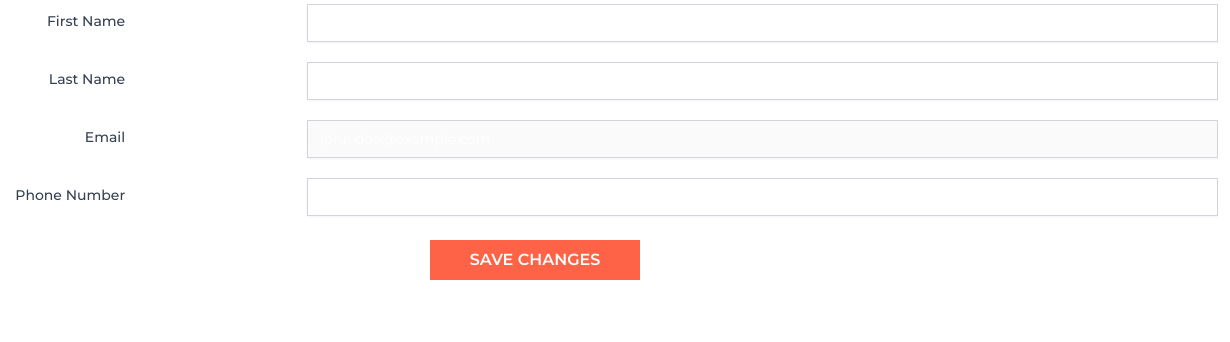
Test: UserDataForm Component › displays error message when updateUser fails
Click the button "Save Changes".
click(535, 260)  # box [430,240,640,280]
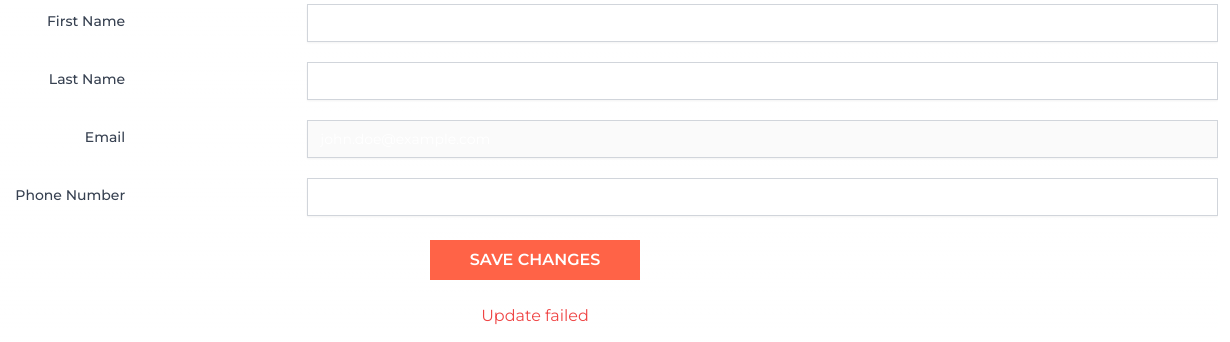
Expected: the text "Update failed" is shown, [481,306,589,325]
